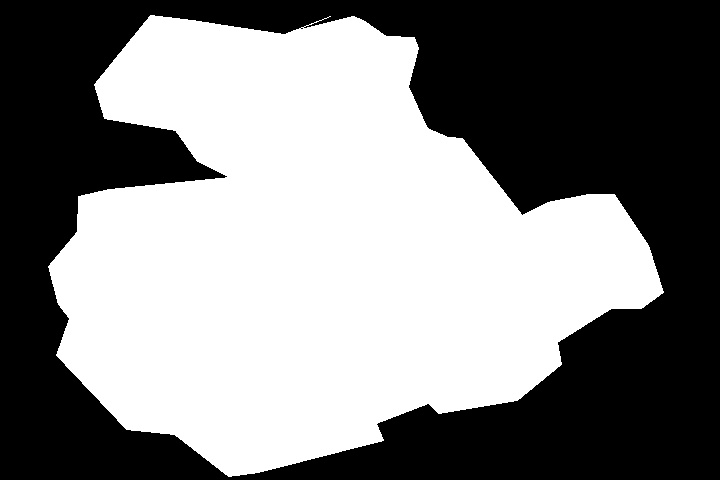Fire: (261, 124, 533, 303)
